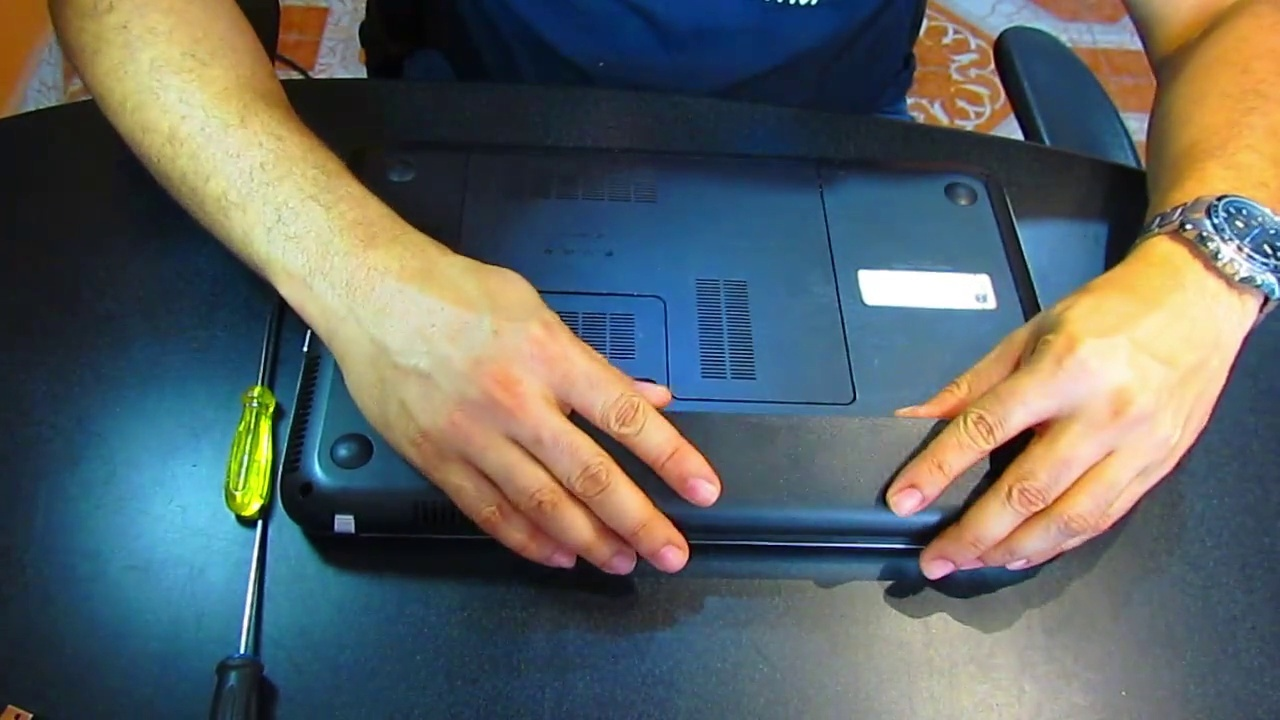screwdriver: (221, 295, 283, 519), (204, 520, 271, 720)
